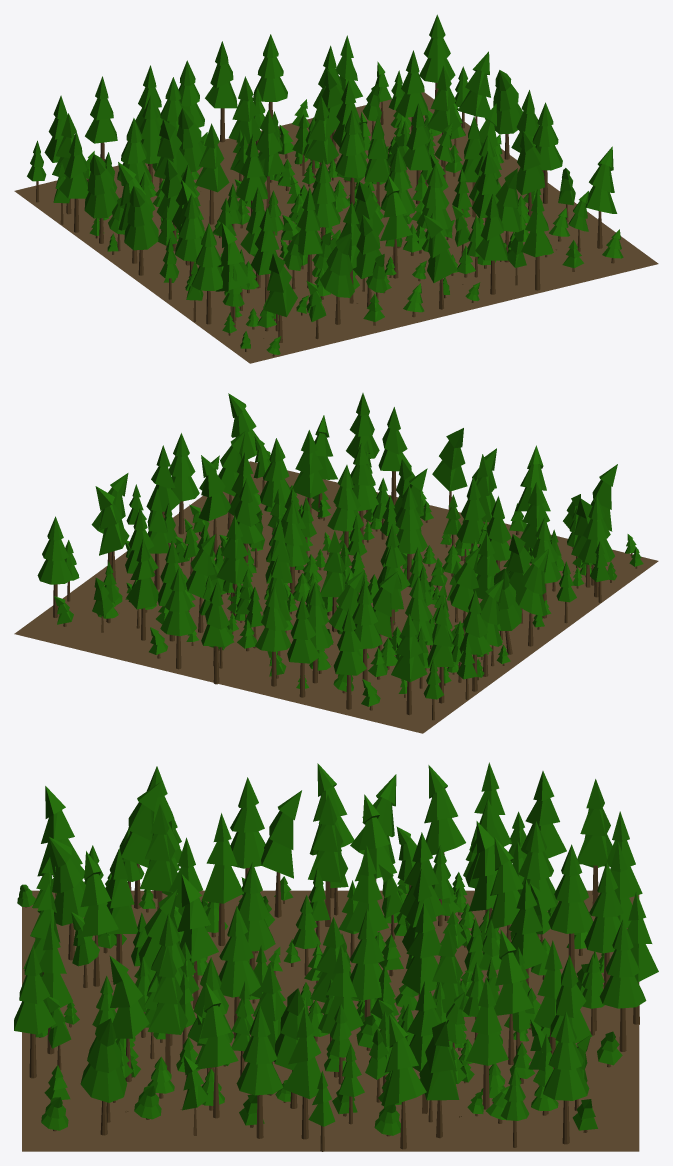
The model's file is Forest.fbx.
3 renders of one model, top to bottom at view 1: azimuth 30°, elevation 25°; view 2: azimuth 150°, elevation 25°; view 3: azimuth 270°, elevation 25°, orthographic. The views are drawn at different scales.
Visible parts, largest first — view 1: tall2, pPlane1; view 2: tall2, pPlane1; view 3: tall2, pPlane1.
Boxes of the visible parts, box(x1,y1,x2,y2) form: tall2: box(27, 14, 623, 356); pPlane1: box(14, 92, 658, 363); tall2: box(37, 393, 643, 720); pPlane1: box(14, 461, 658, 733); tall2: box(14, 762, 658, 1151); pPlane1: box(22, 890, 639, 1151).
Size of the model in its own units: 52.17 by 11.91 by 52.22.
